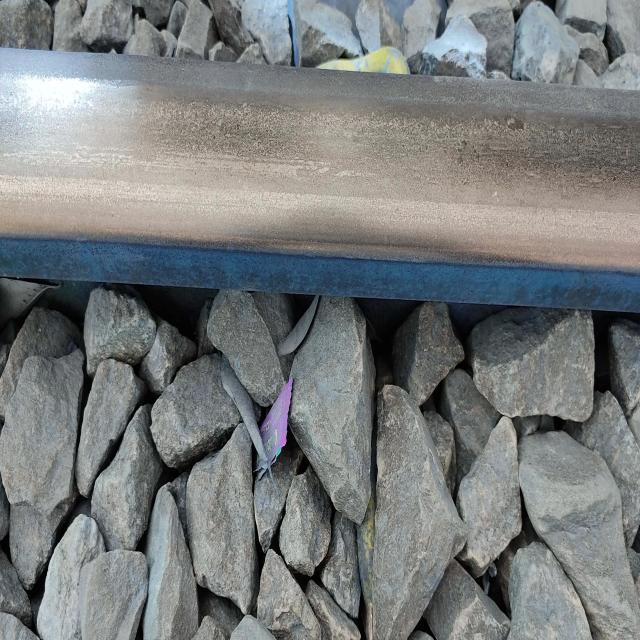Good Fasteners: (316, 46, 410, 74)
